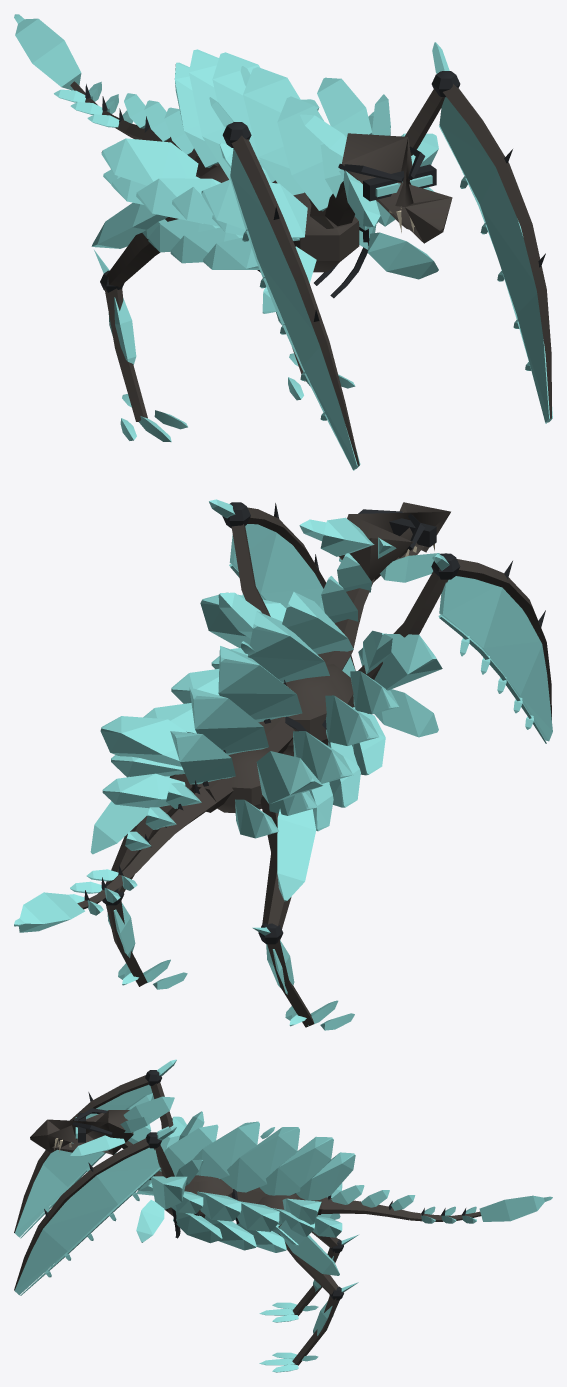
Rendered from Monster_PrismStalker.fbx.
The picture shows the model from 3 angles, top to bottom: view 1: azimuth 30°, elevation 25°; view 2: azimuth 150°, elevation 25°; view 3: azimuth 270°, elevation 25°; orthographic projection. The views are drawn at different scales.
Parts seen in each view (by area): view 1: Chest_, LeftBlade_, Body_, RightBlade_, Head, Head_, RightBlade, TailTip_, LeftBlade, Chest, RightShin, Tail_ (+8 smaller); view 2: Chest_, Body_, RightBlade_, LeftBlade_, Head, Body, Head_, TailTip_, Chest, RightLeg_, Neck_, RightArm (+16 smaller); view 3: Chest_, LeftBlade_, Body_, RightBlade_, Head, Head_, TailTip_, LeftBlade, LeftLeg_, LeftShin, RightBlade, Tail (+9 smaller).
Boxes of the visible parts, box(x1,y1,x2,y2) form: Chest_: box(136, 52, 438, 313); LeftBlade_: box(432, 42, 552, 422); Body_: box(101, 49, 319, 238); RightBlade_: box(209, 97, 360, 469); Head: box(338, 133, 452, 243); Head_: box(300, 77, 434, 226); RightBlade: box(231, 135, 359, 465); TailTip_: box(15, 18, 132, 127); LeftBlade: box(443, 84, 551, 418); Chest: box(257, 180, 369, 298); RightShin: box(104, 287, 187, 441); Tail_: box(124, 93, 193, 154); Chest_: box(143, 592, 442, 831); Body_: box(100, 687, 322, 838); RightBlade_: box(432, 553, 552, 741); LeftBlade_: box(209, 499, 355, 676); Head: box(339, 502, 450, 582); Body: box(192, 650, 352, 813); Head_: box(299, 517, 439, 582); TailTip_: box(18, 869, 137, 932); Chest: box(264, 664, 368, 756); RightLeg_: box(277, 791, 316, 901); Neck_: box(321, 553, 371, 622); RightArm: box(358, 553, 460, 679); Chest_: box(136, 1116, 299, 1252); LeftBlade_: box(14, 1126, 176, 1295); Body_: box(260, 1136, 355, 1245); RightBlade_: box(14, 1059, 176, 1237); Head: box(30, 1108, 133, 1155); Head_: box(70, 1093, 174, 1156); TailTip_: box(421, 1195, 544, 1223); LeftBlade: box(14, 1138, 149, 1290); LeftLeg_: box(278, 1220, 339, 1275); LeftShin: box(259, 1295, 339, 1372); RightBlade: box(14, 1075, 148, 1232); Tail: box(321, 1195, 411, 1220).
Size of the model in its own units: 2.87 by 4.64 by 9.13.
